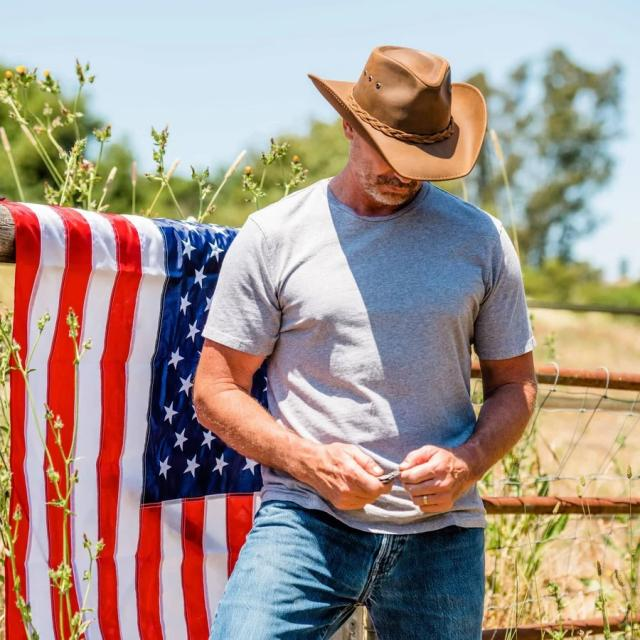hat: (286, 27, 496, 192)
